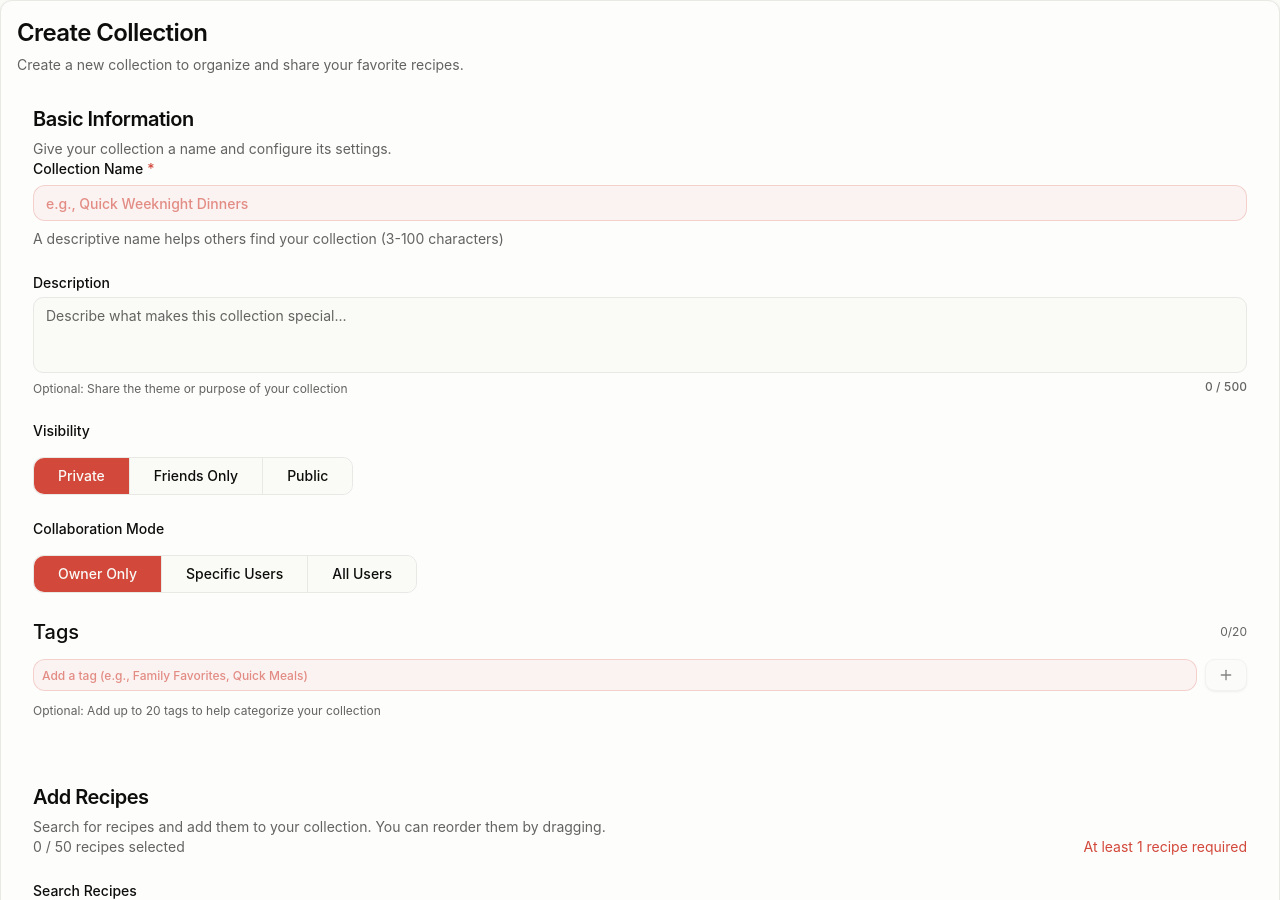
Test: CreateCollectionForm › Collaborator Section Visibility › should show collaborator picker when SPECIFIC_USERS mode is selected
The width and height of the screenshot is (1280, 900).
Click the radio button labelled "Specific Users" at x=235, y=574, box [162,556,308,592]
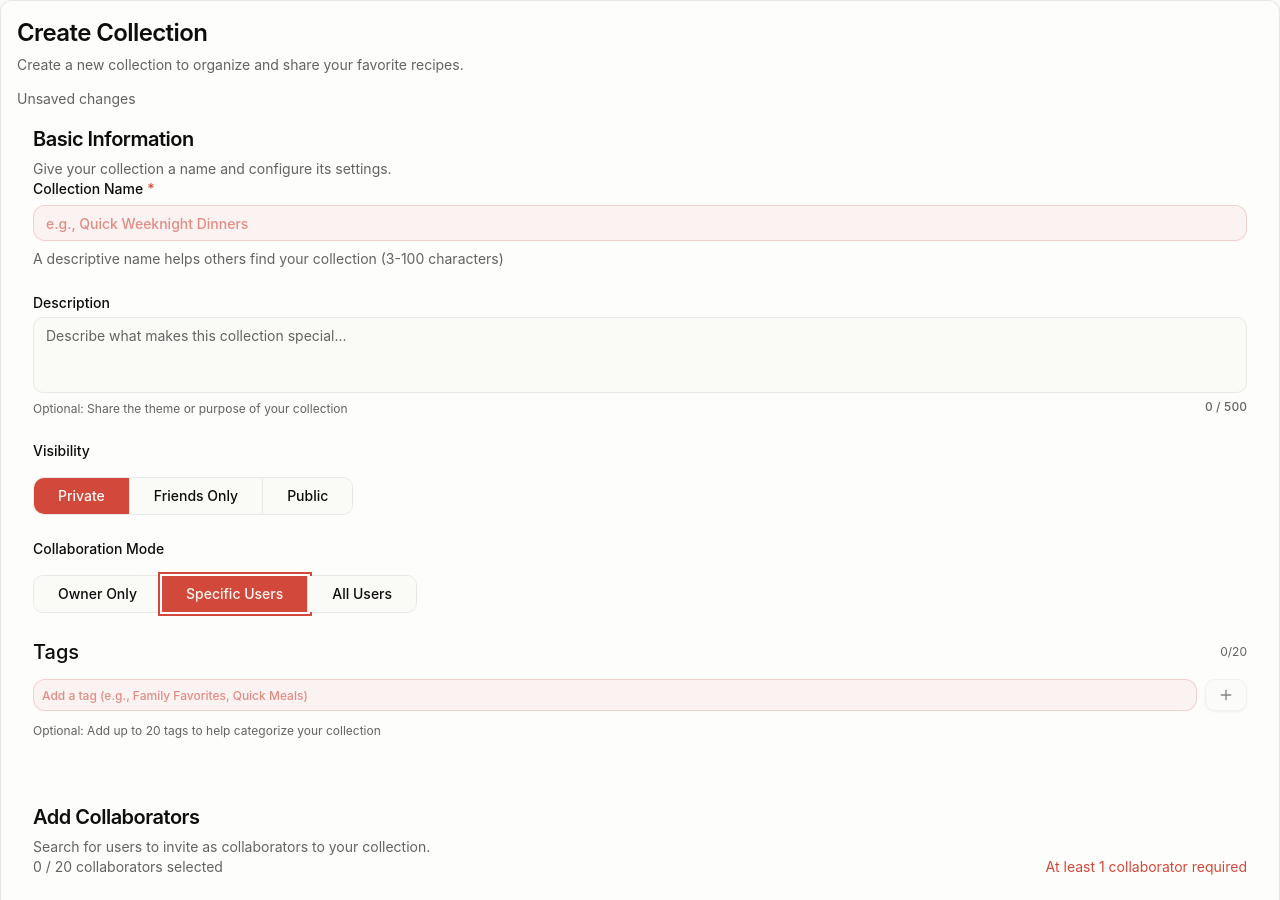
Expected: the heading "Add Collaborators" is shown, [33,805,200,829]
